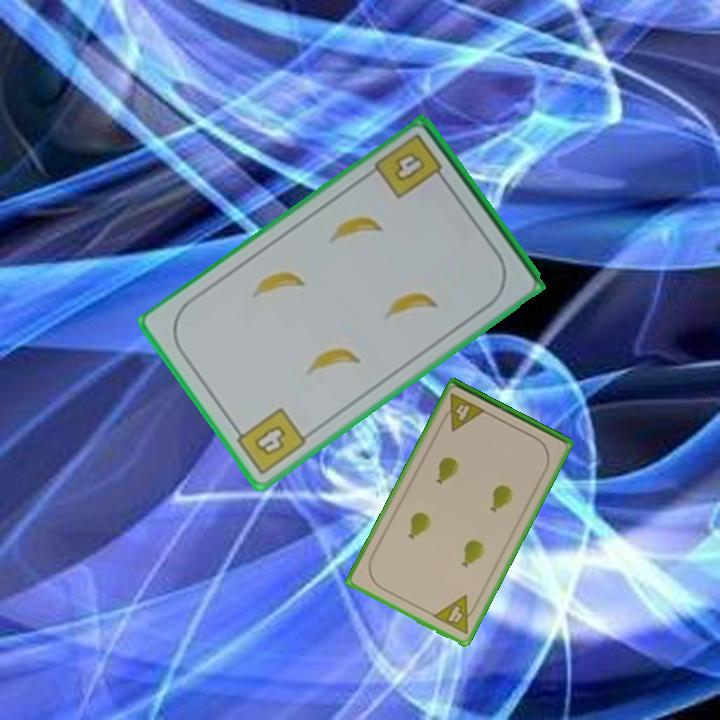4b: (229, 404, 310, 479), (370, 130, 450, 203)
4p: (429, 592, 482, 637), (437, 390, 489, 434)
